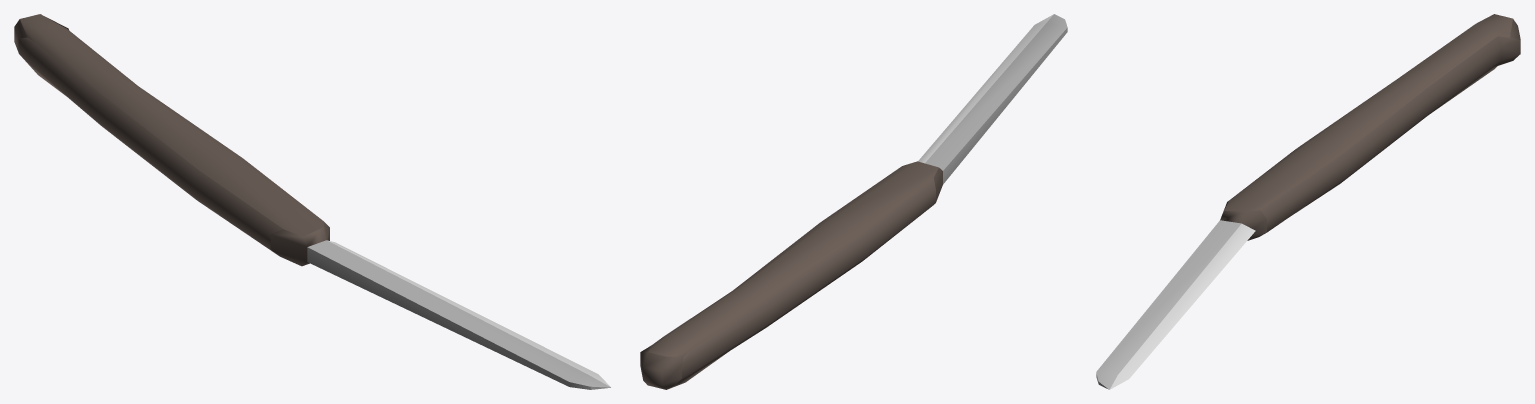
File: Scalpel.fbx
3 renders of one model, left to right at view 1: azimuth 30°, elevation 25°; view 2: azimuth 150°, elevation 25°; view 3: azimuth 330°, elevation 25°, orthographic. The views are drawn at different scales.
Visible parts, largest first — view 1: Scalpel; view 2: Scalpel; view 3: Scalpel.
Boxes of the visible parts, bbox=[...] form: Scalpel: bbox=[14, 14, 610, 389]; Scalpel: bbox=[640, 14, 1067, 389]; Scalpel: bbox=[1096, 14, 1520, 389].
Bounding box in the file's own units: 0.7744 × 0.2937 × 6.06.
